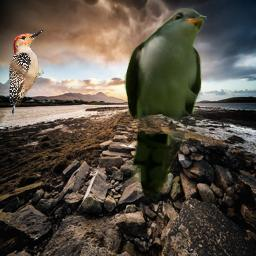Cuckoo: (124, 8, 207, 199)
Woodpecker: (9, 29, 44, 116)
